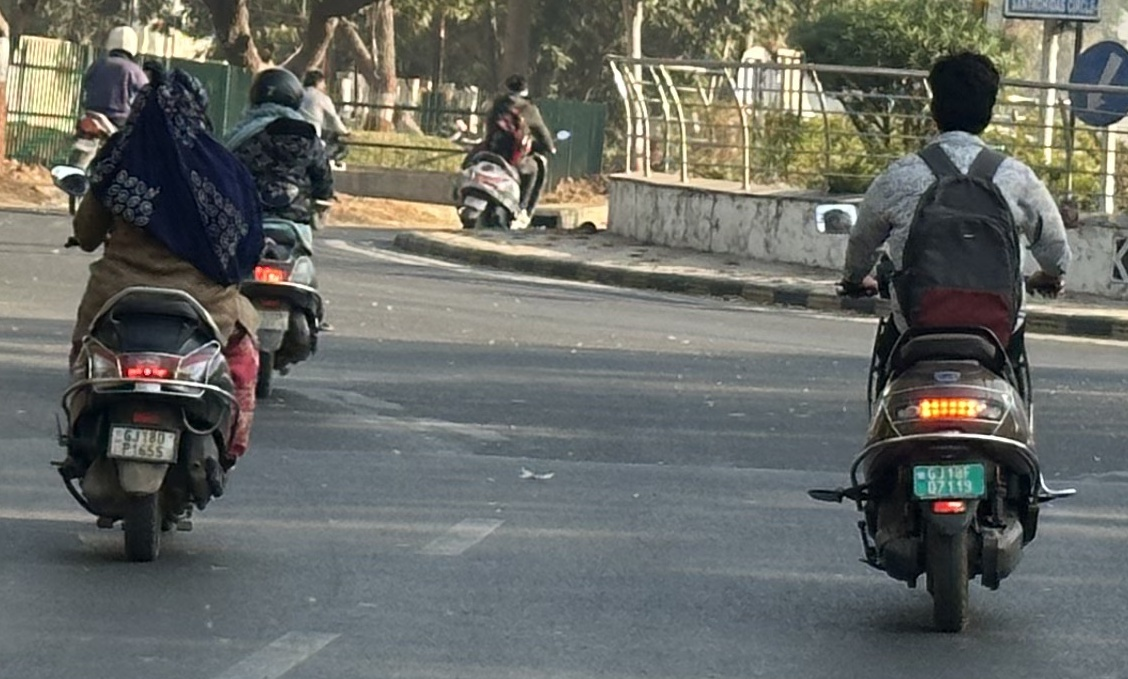BikeWithRider: (807, 47, 1082, 643), (55, 55, 265, 576), (207, 60, 347, 408), (446, 68, 574, 236), (58, 8, 152, 220)
Helmet: (242, 61, 310, 123), (96, 17, 150, 65)
NoHelmet: (914, 47, 1001, 146), (124, 62, 219, 152), (500, 71, 534, 104)
